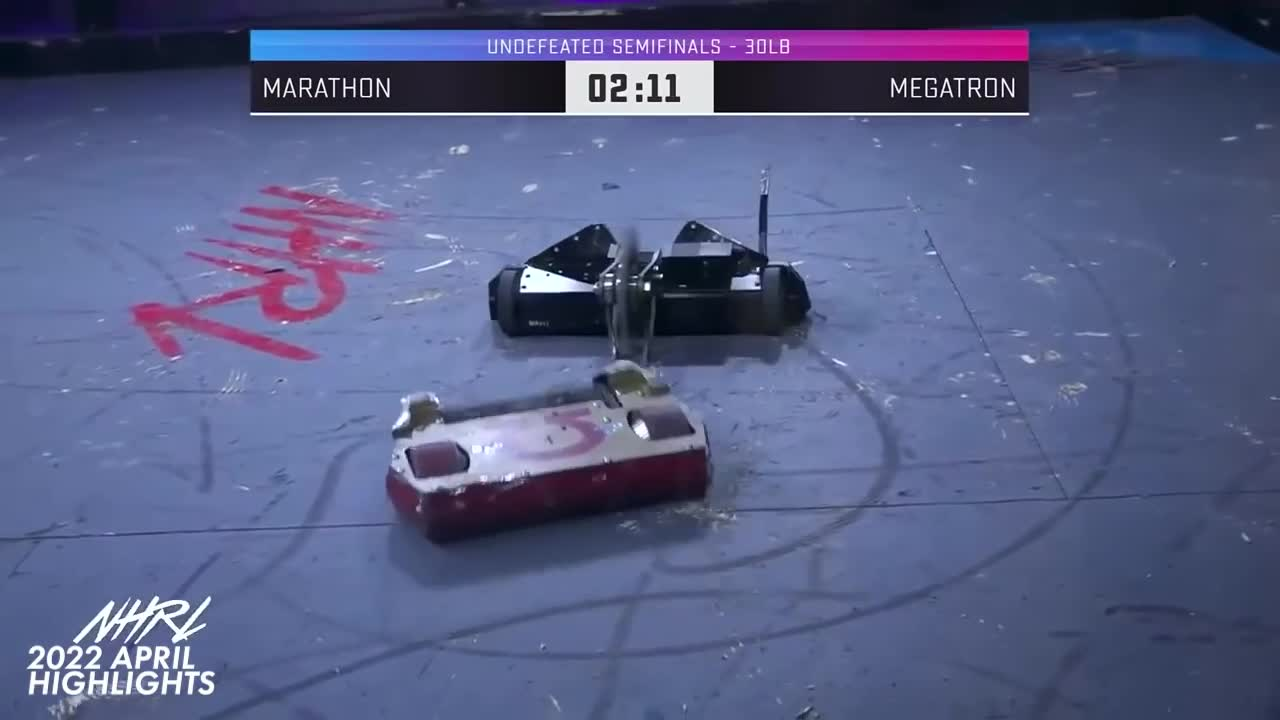combatbot: (385, 362, 713, 545), (494, 221, 811, 343)
